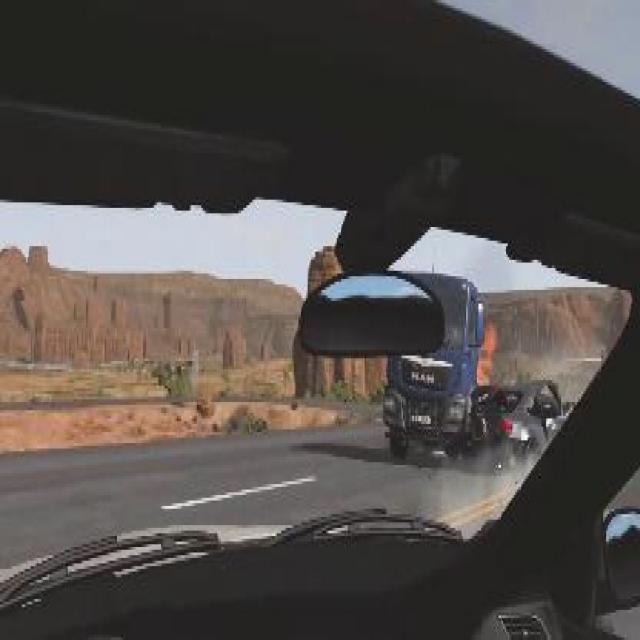accident: (382, 254, 589, 476)
